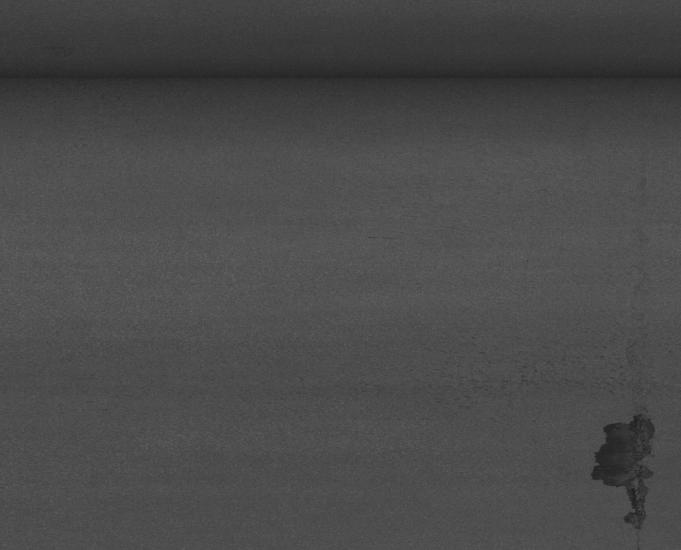剥落: (556, 379, 681, 526)
